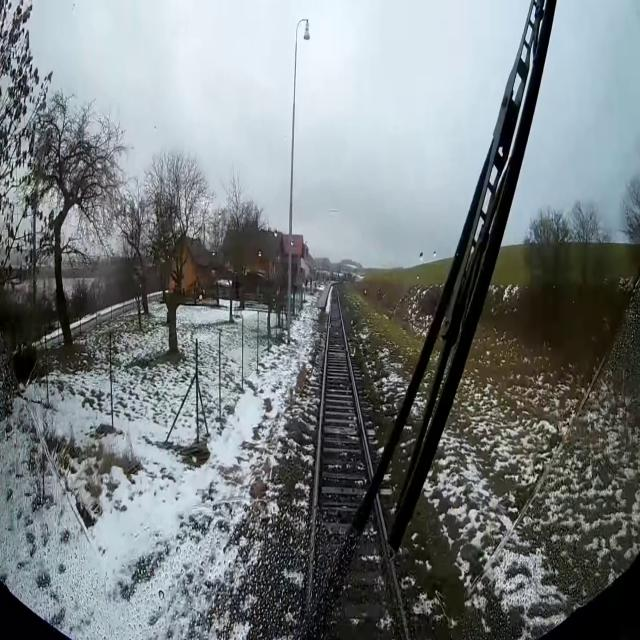rail-track: (309, 284, 406, 639)
